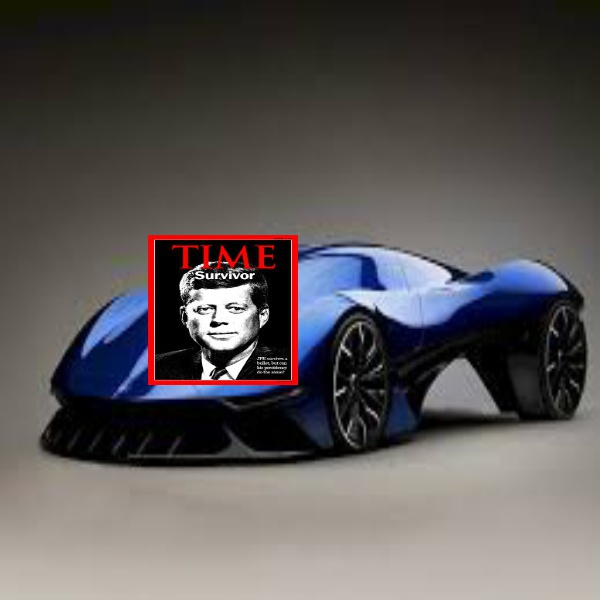time_cover: (148, 233, 297, 378)
